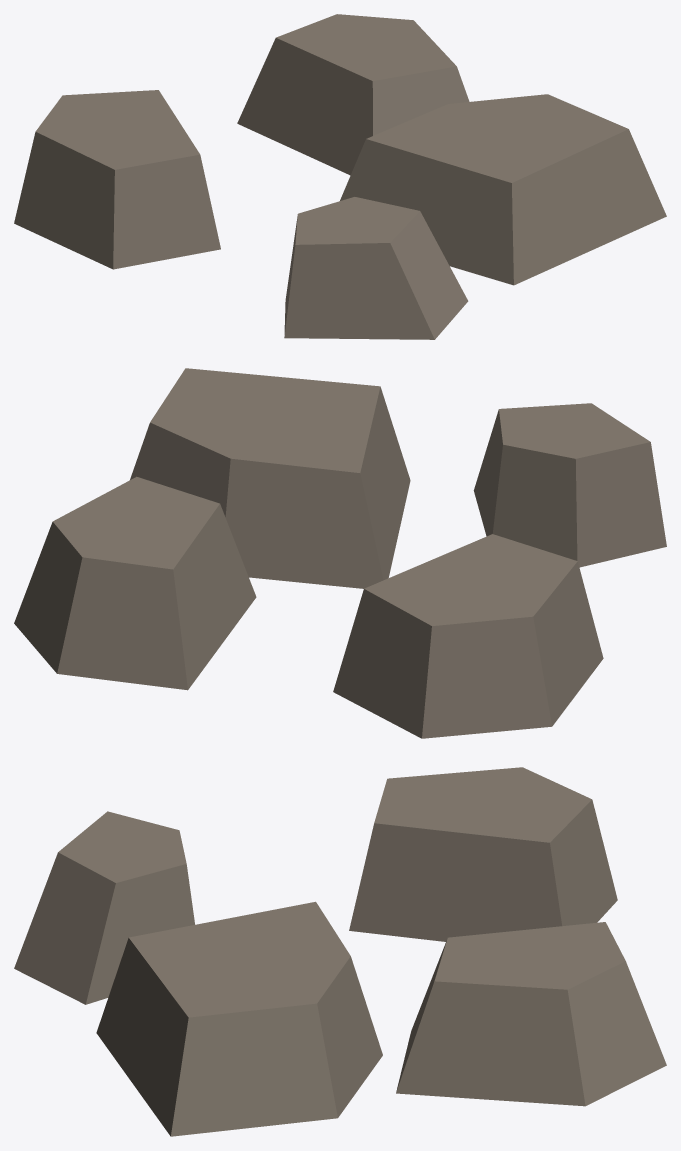
File: SM_Env_Pebbles_02.glb
3 renders of one model, top to bottom at view 1: azimuth 30°, elevation 25°; view 2: azimuth 150°, elevation 25°; view 3: azimuth 270°, elevation 25°, orthographic. The views are drawn at different scales.
Parts seen in each view (by area): view 1: SM_Env_Pebbles_02; view 2: SM_Env_Pebbles_02; view 3: SM_Env_Pebbles_02.
Part boxes in pixels (x1=…): SM_Env_Pebbles_02: x1=14, y1=14, x2=666, y2=339; SM_Env_Pebbles_02: x1=14, y1=368, x2=666, y2=738; SM_Env_Pebbles_02: x1=14, y1=767, x2=666, y2=1136.
Size of the model in its own units: 0.8928 by 0.153 by 0.8864.
1 material, 1 textured.
